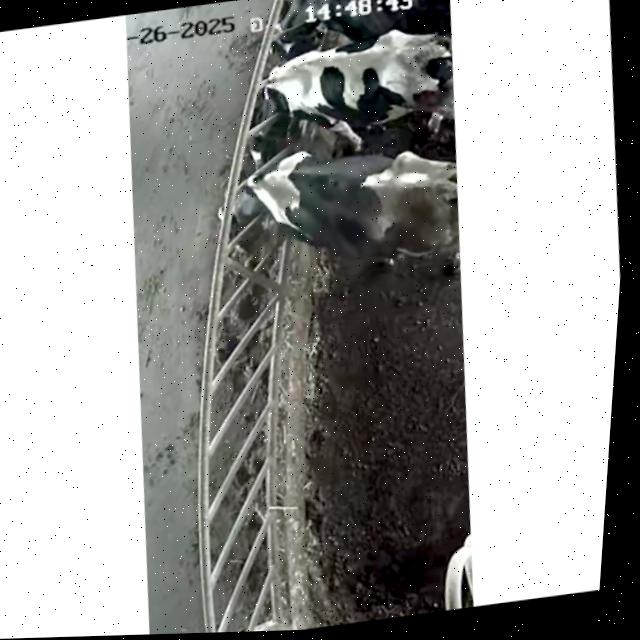eat: (177, 138, 370, 265), (213, 44, 372, 140), (233, 0, 382, 49)
